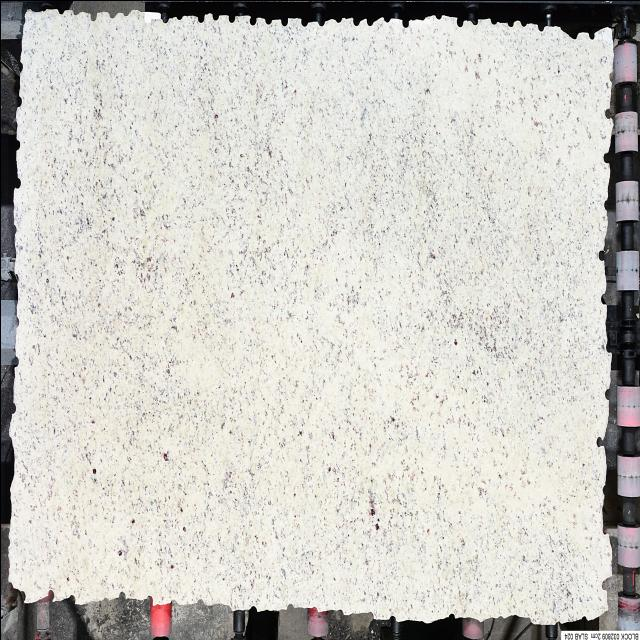chapa: (6, 8, 614, 626)
veio: (594, 433, 607, 449), (45, 588, 56, 604), (598, 289, 608, 306), (453, 14, 465, 28), (602, 106, 612, 120), (195, 12, 205, 24), (88, 10, 98, 22), (597, 248, 605, 262), (602, 150, 610, 164), (400, 17, 410, 28), (14, 177, 22, 190), (12, 355, 19, 369), (536, 21, 544, 33), (248, 14, 256, 26), (588, 30, 596, 40), (228, 12, 235, 23)
